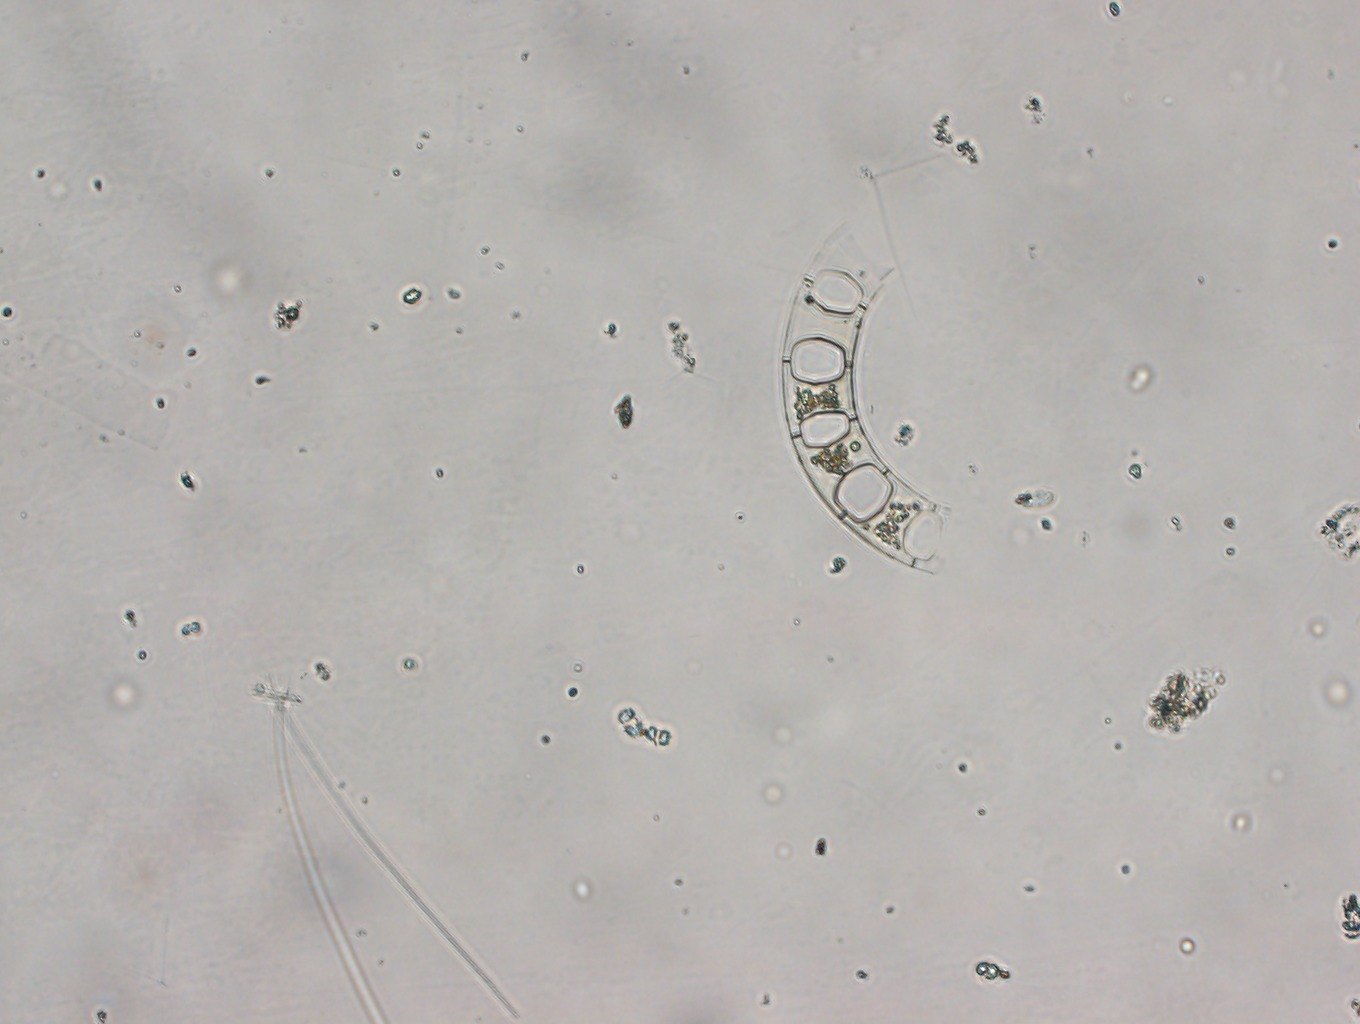eucampia: (779, 219, 954, 577)
